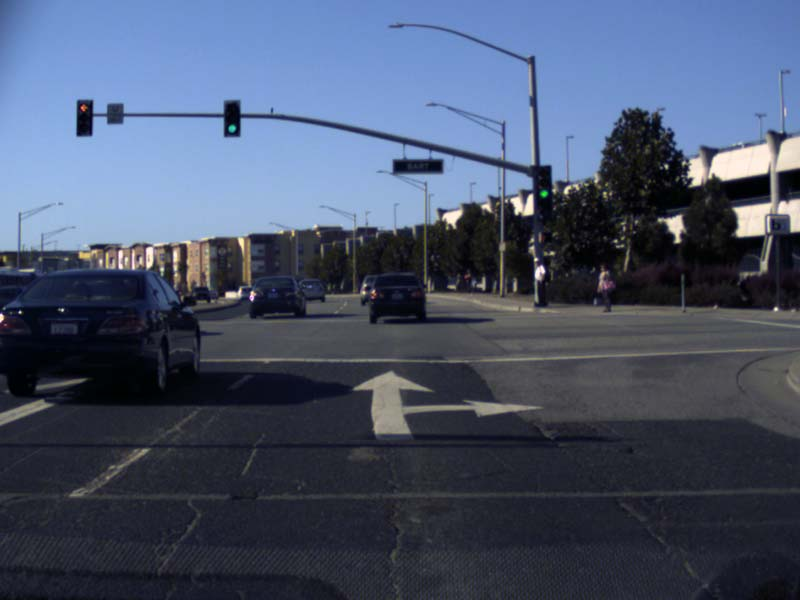Green: (533, 164, 552, 220), (223, 99, 241, 138)
Red: (75, 98, 92, 136)
